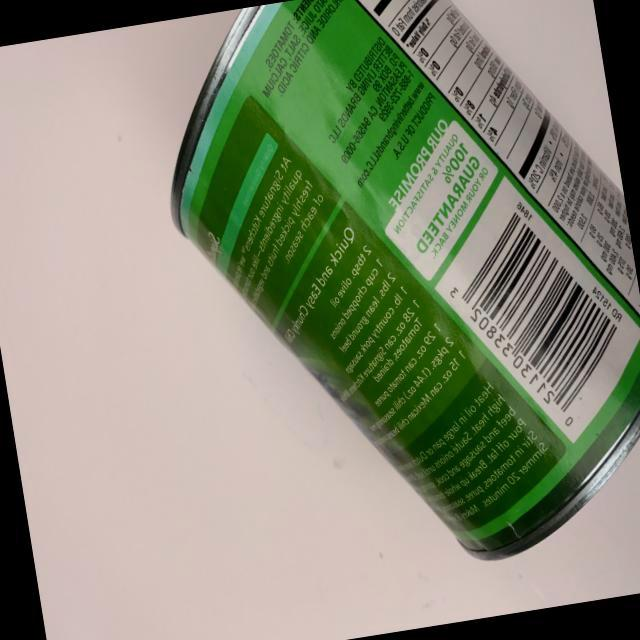metal: (133, 0, 640, 621)
